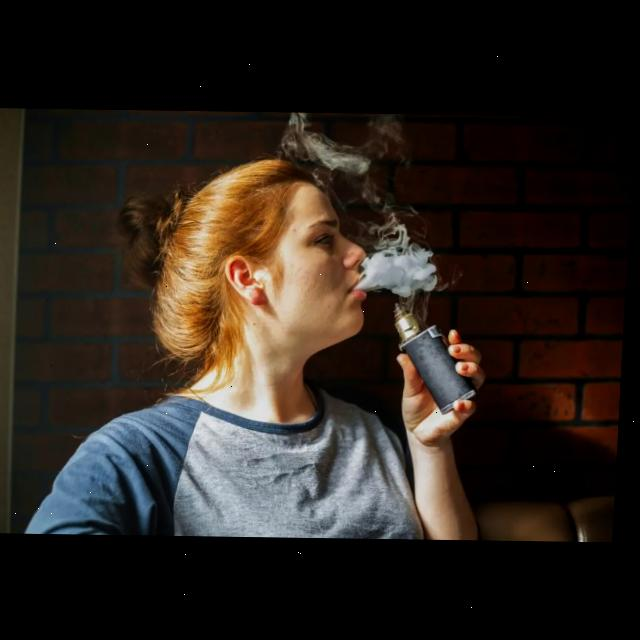vape: (393, 302, 484, 413)
